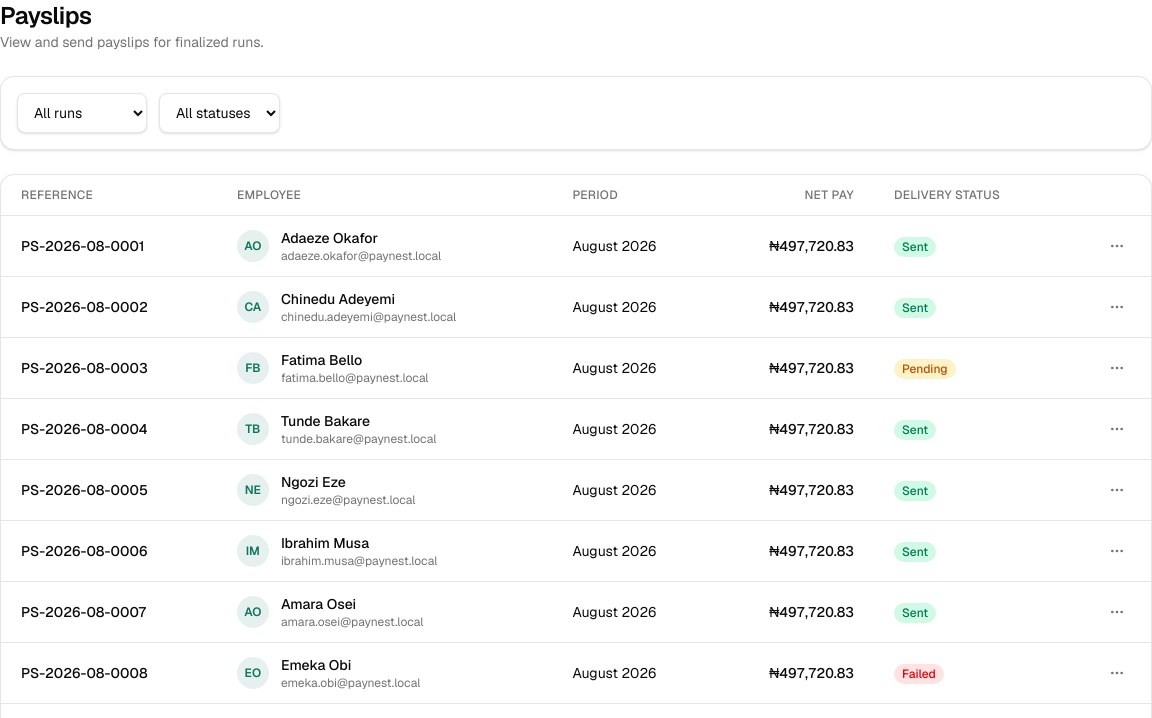
Test: payslips list › shows resend for a failed payslip
Click the button named "Actions for PS-2026-08-0008" at (1117, 673), box [1103,659,1131,687]
(page scrolled)
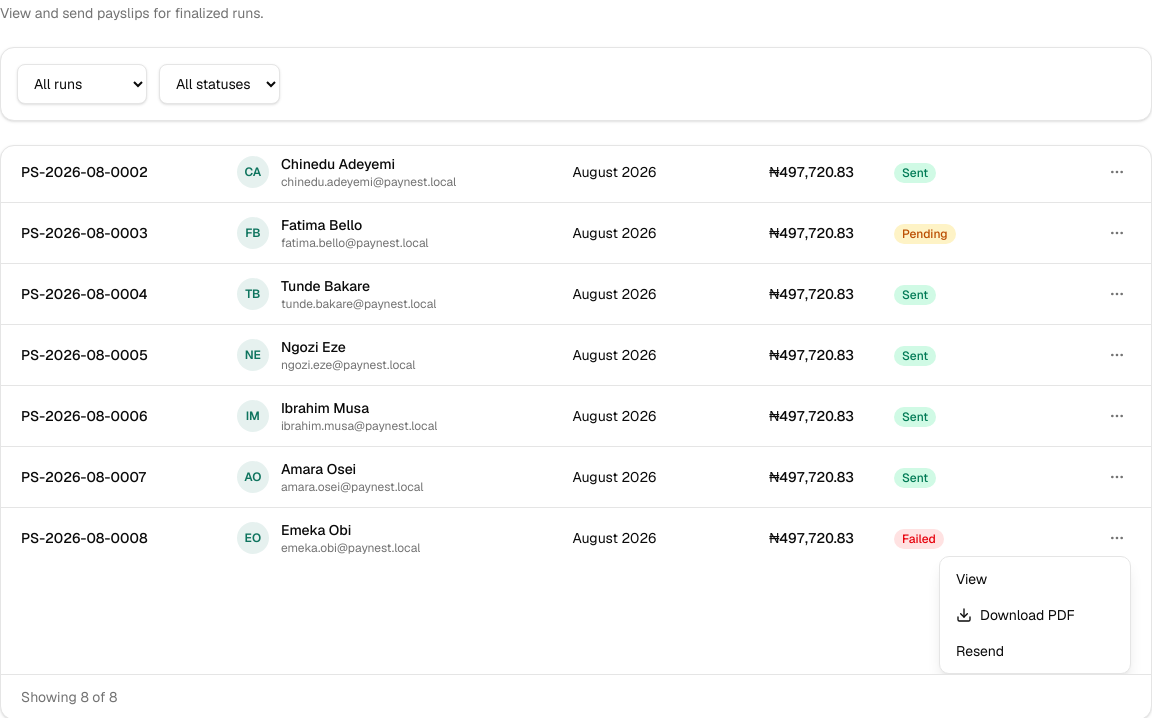
expect the menu item "Resend" is shown: met, box [944,633,1126,669]
